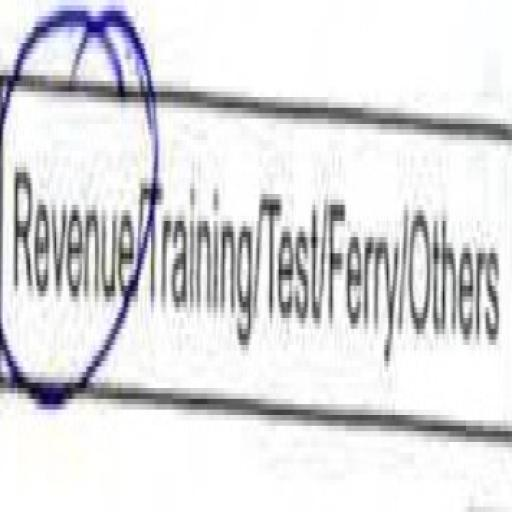check: (0, 2, 142, 456)
